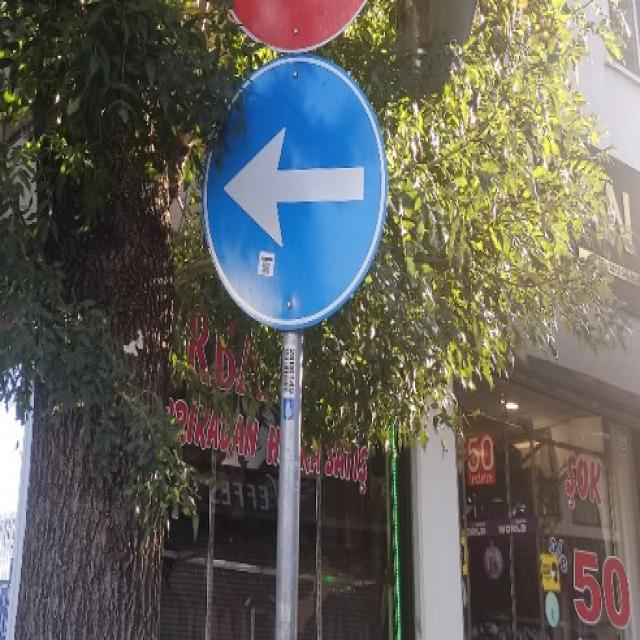Turn Left: (199, 53, 387, 337)
